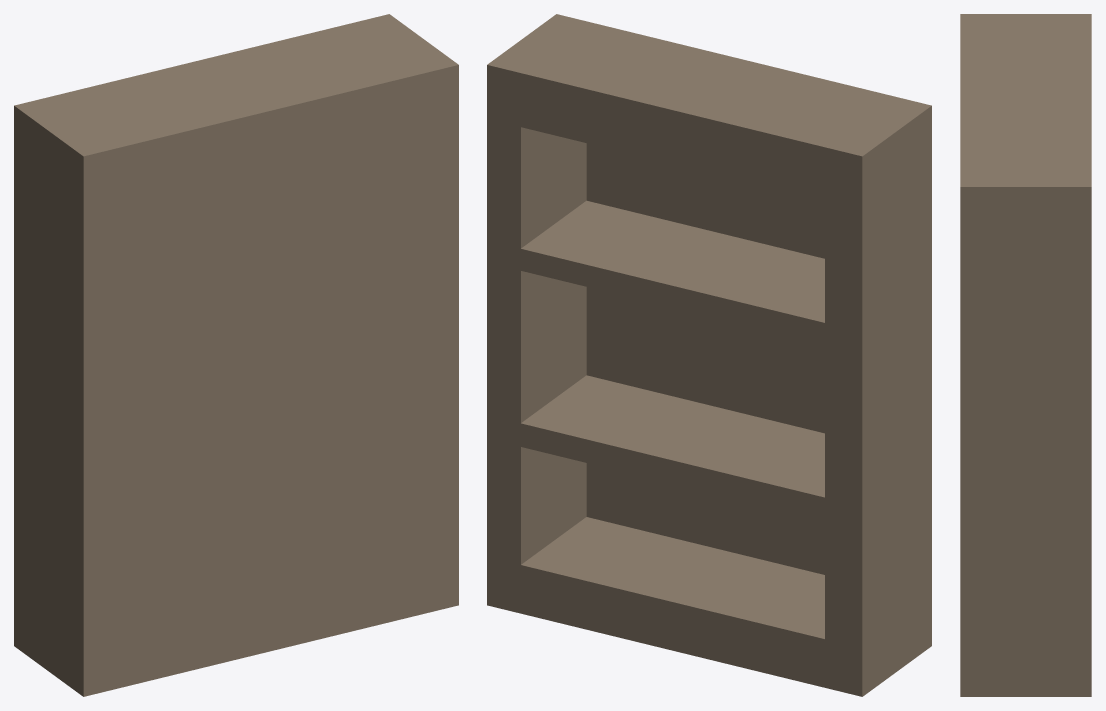
The model's file is Shelf.fbx.
3 views of the same model, side by side, from view 1: azimuth 30°, elevation 25°; view 2: azimuth 150°, elevation 25°; view 3: azimuth 270°, elevation 25° (orthographic). The views are drawn at different scales.
Parts seen in each view (by area): view 1: Shelf4; view 2: Shelf4; view 3: Shelf4.
Boxes of the visible parts, x1=… form: Shelf4: x1=14, y1=14, x2=458, y2=696; Shelf4: x1=487, y1=14, x2=931, y2=696; Shelf4: x1=960, y1=14, x2=1091, y2=696.
Size of the model in its own units: 1 by 1.38 by 0.3206.
